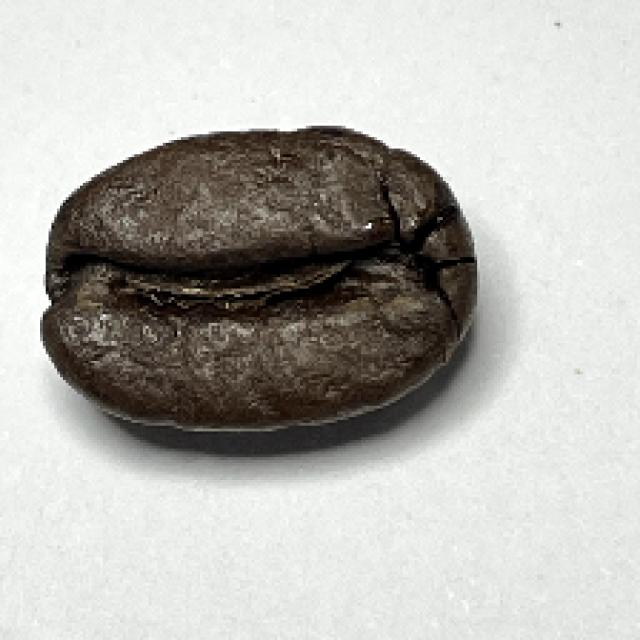bean: (33, 125, 482, 432)
